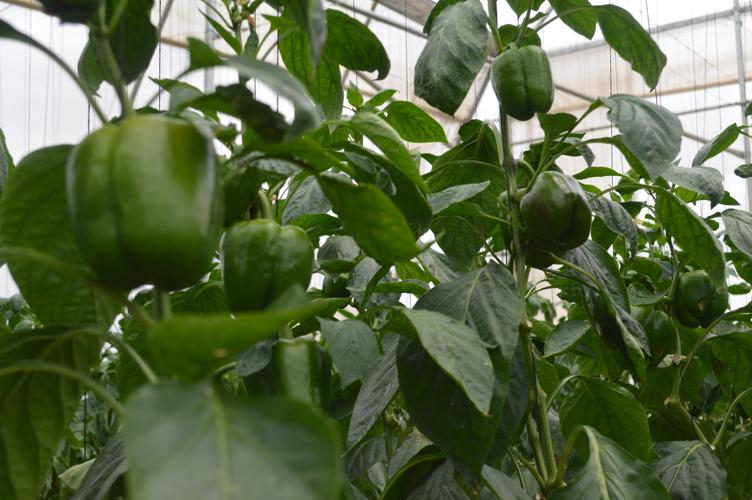BellPepper: (65, 116, 226, 288), (216, 222, 313, 313), (521, 173, 592, 253), (490, 47, 553, 116), (682, 271, 732, 324)
